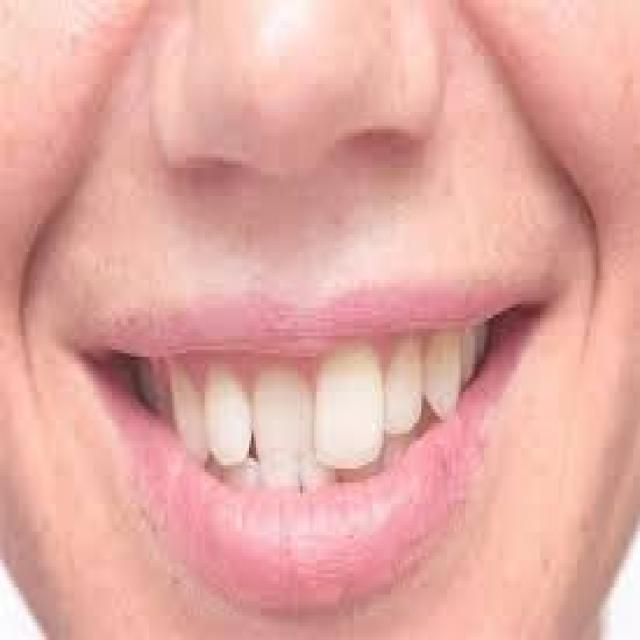tooth: (308, 336, 380, 454), (202, 378, 258, 458), (266, 364, 308, 444), (428, 332, 459, 409), (177, 371, 200, 465), (391, 339, 419, 416), (466, 325, 480, 371)
